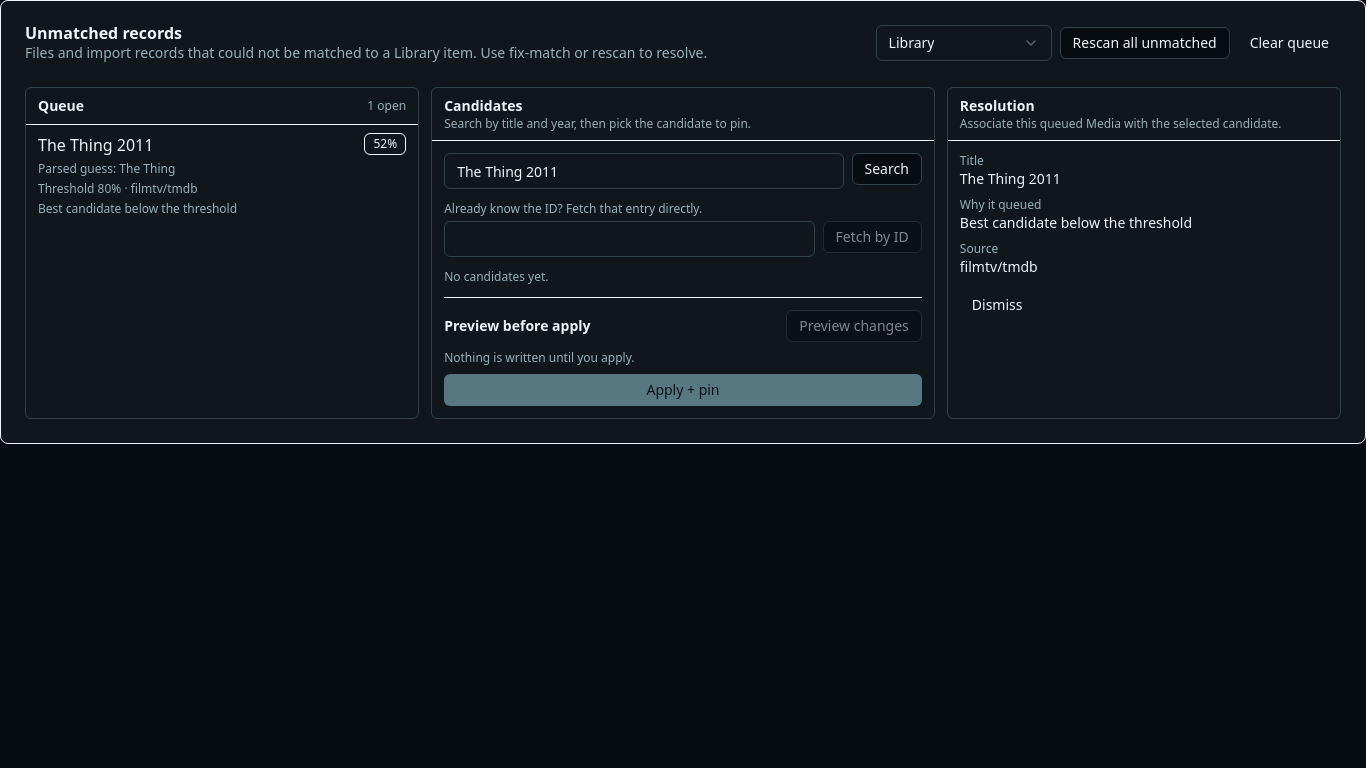
Test: UnmatchedPage › shows the failure reason, scores candidates, previews, then applies
This screenshot has width=1366, height=768.
Expected: the text "The Thing 2011" is shown 2 times, [38, 133, 153, 157]; [960, 169, 1061, 188]
Expected: the text "Best candidate below the threshold" below "1 open" is shown, [38, 200, 237, 217]
Step 1. Replace the text in the field named "Search title" with "The Thing 1982" → (644,171), box [444, 153, 844, 189]
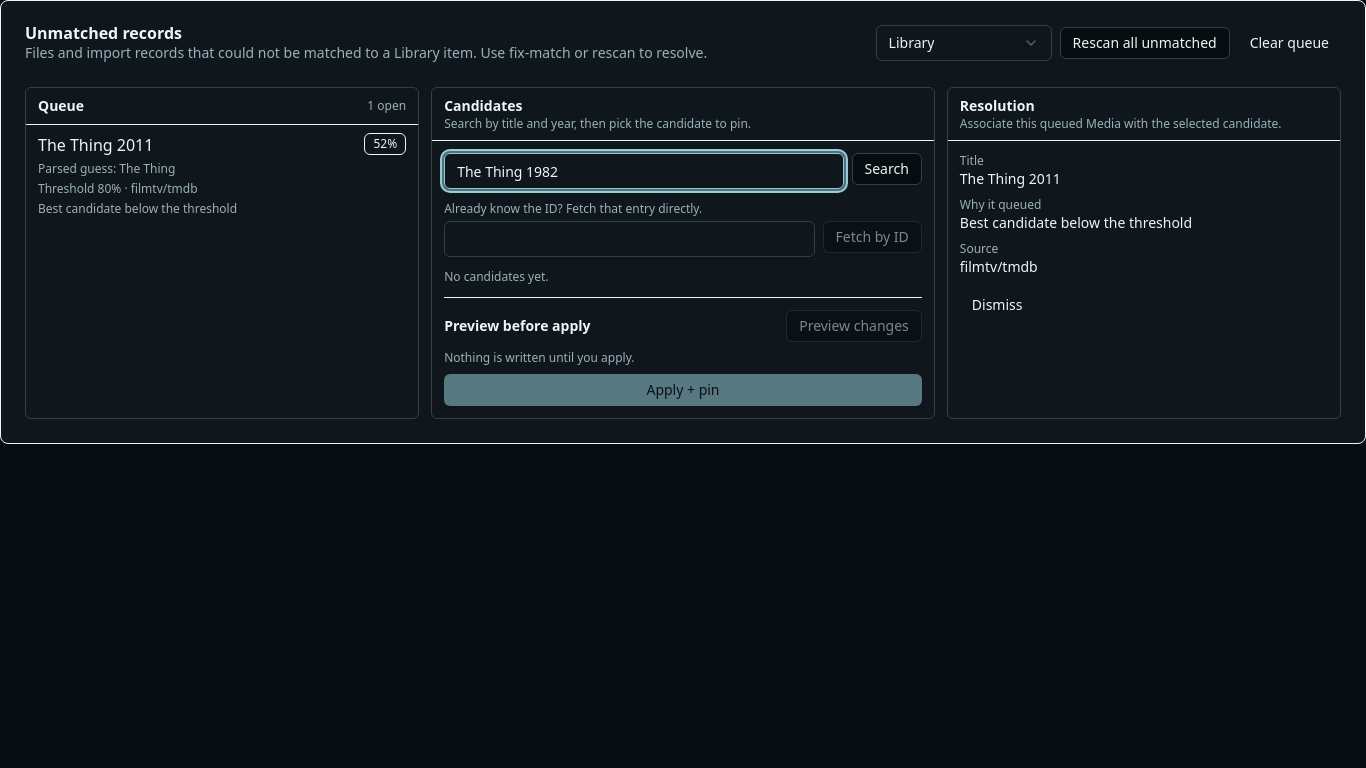
Step 2. Click the button "Search" → (887,169), box [852, 153, 922, 185]
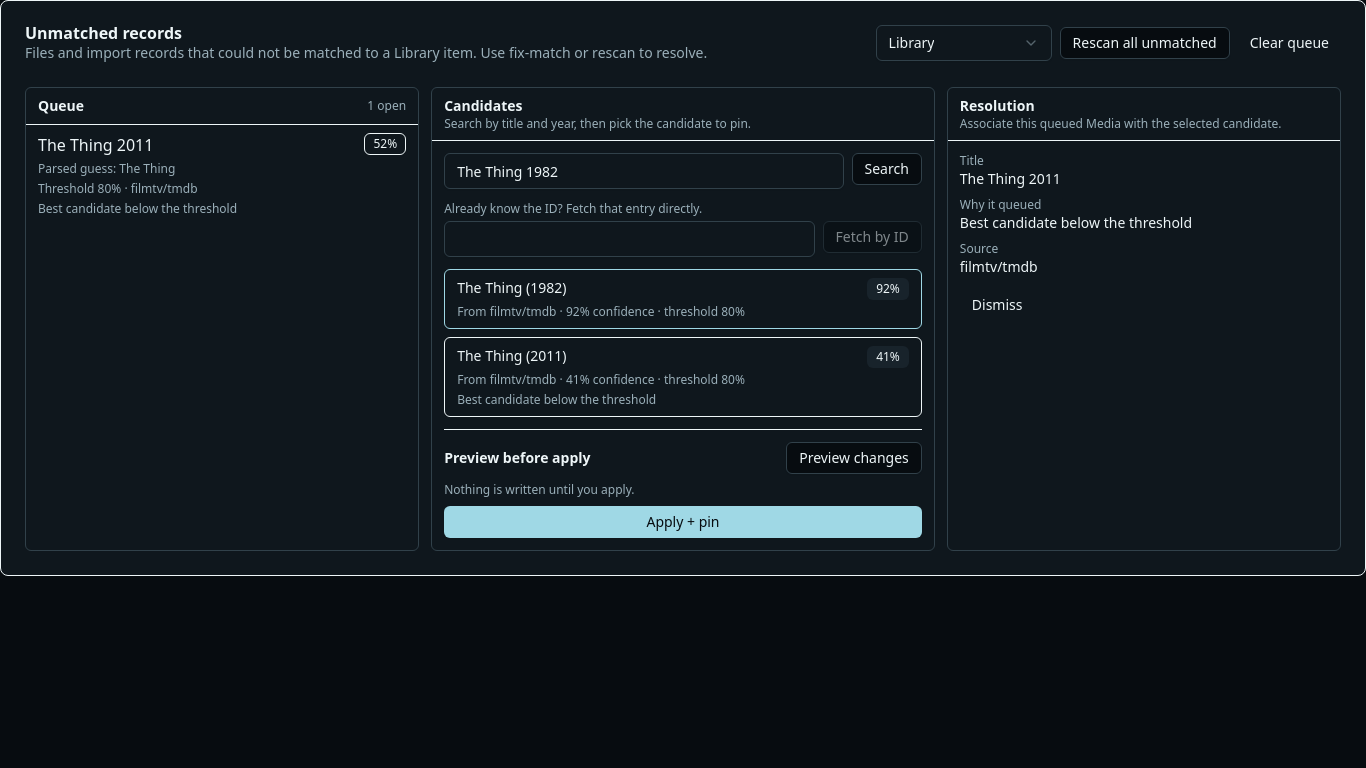
Expected: the text "92%" is shown, [867, 278, 909, 300]
Expected: the text "From filmtv/tmdb · 92% confidence · threshold 80%" is shown 2 times, [457, 303, 745, 320]; [457, 371, 745, 388]
Expected: the text "From filmtv/tmdb · 92% confidence · threshold 80%" is shown, [457, 303, 745, 320]
// Preview writes nothing and names current → proposed per field.
Step 3. Click the button "Preview changes" → (854,458), box [786, 442, 922, 474]
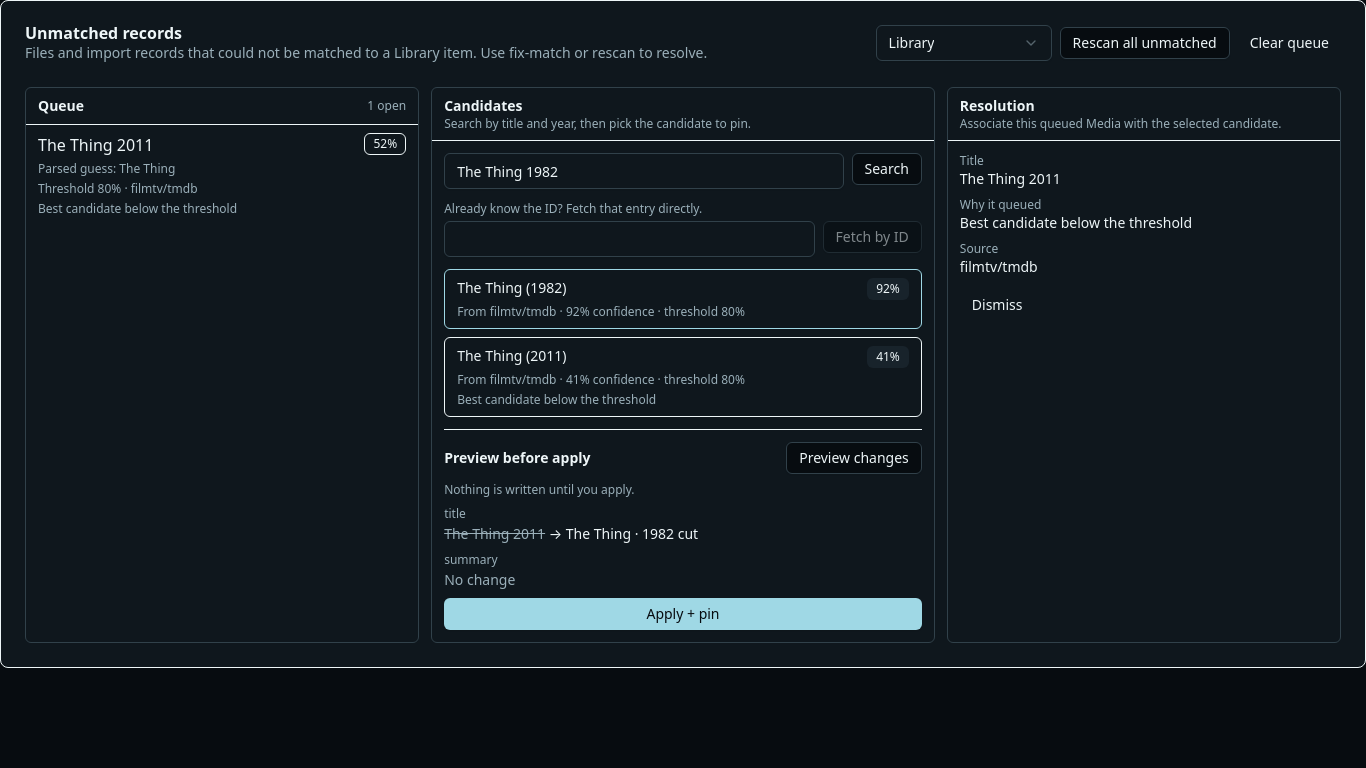
Expected: the text "The Thing · 1982 cut" is shown, [566, 524, 698, 543]
Expected: the text "No change" is shown, [444, 570, 515, 589]
Step 4. Click the button "Apply + pin" → (683,614), box [444, 598, 922, 630]
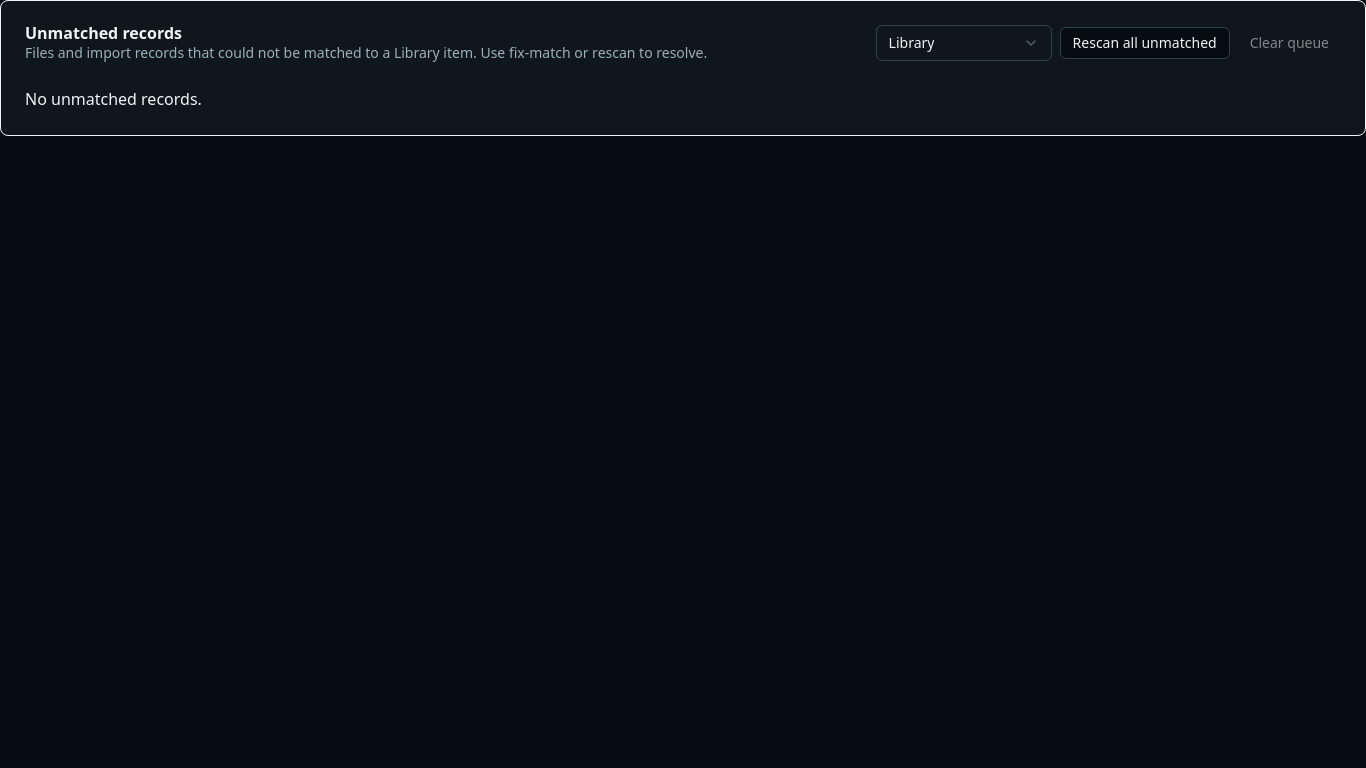
Expected: the button "The Thing 2011" is gone
